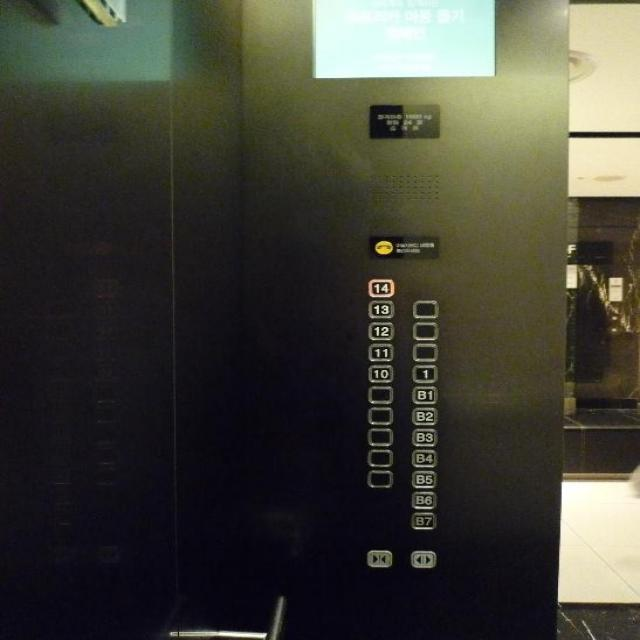1: (412, 365, 437, 384)
10: (366, 364, 393, 383)
11: (366, 342, 394, 361)
12: (366, 321, 394, 340)
13: (366, 299, 394, 319)
14: (365, 277, 394, 297)
B1: (410, 385, 438, 404)
B2: (408, 406, 436, 425)
B3: (409, 426, 439, 447)
B4: (408, 448, 438, 467)
B5: (410, 469, 438, 488)
B6: (409, 490, 436, 510)
B7: (408, 511, 436, 530)
call: (372, 238, 393, 256)
close: (364, 549, 393, 568)
empty: (365, 447, 394, 467), (411, 298, 438, 319), (366, 469, 393, 489), (366, 426, 393, 446), (411, 321, 438, 341), (365, 406, 393, 425), (366, 385, 393, 404), (411, 343, 438, 362)
led: (311, 0, 496, 79)
open: (408, 549, 436, 568)
